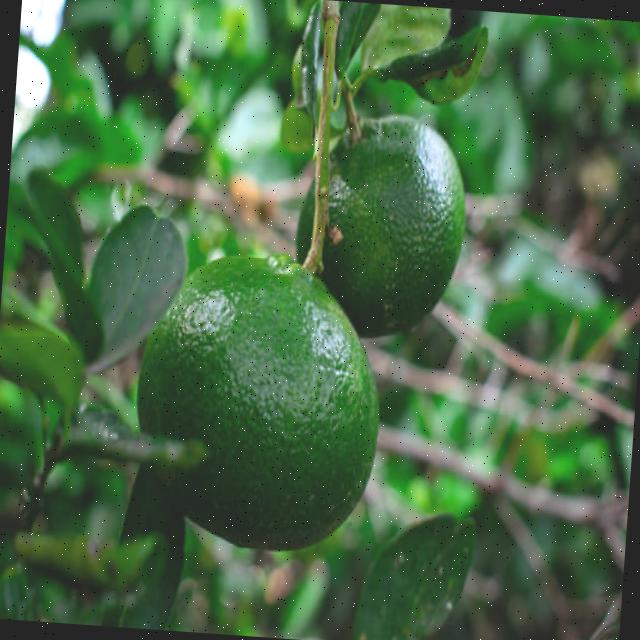Unripe: (128, 244, 390, 554), (291, 105, 472, 342)
